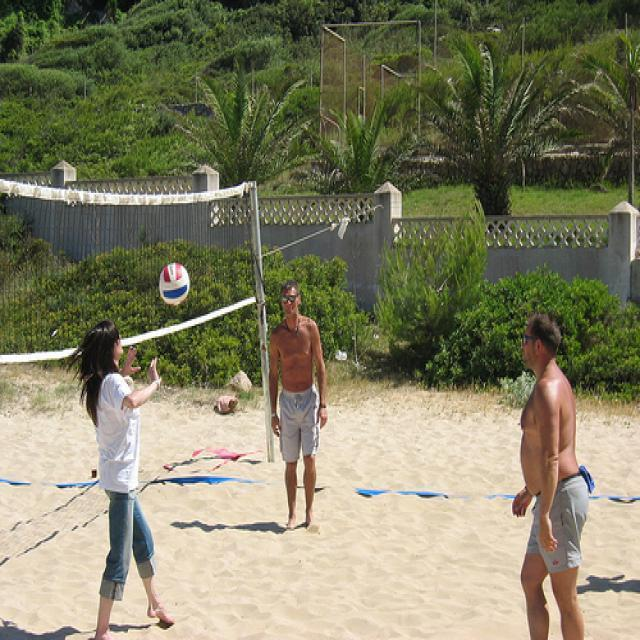volleyball: (158, 263, 190, 306)
